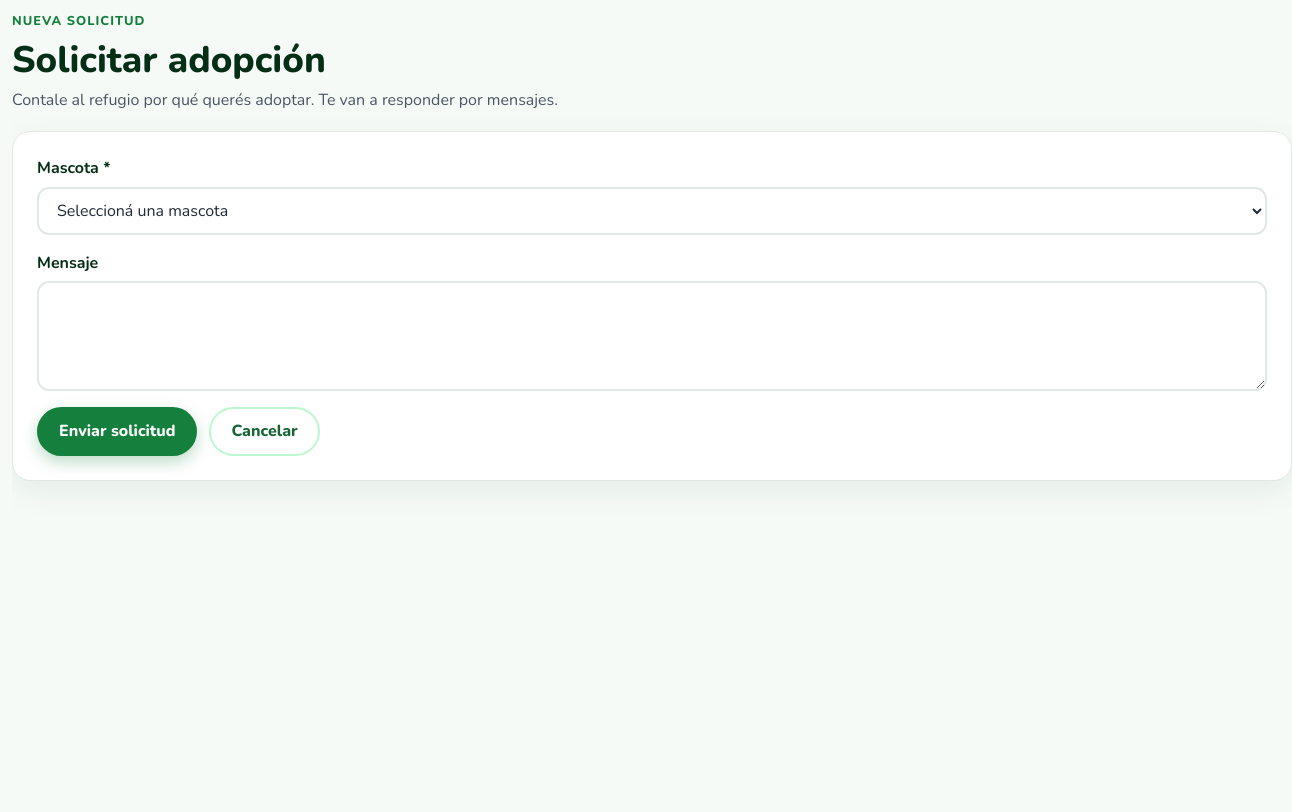
Test: SolicitudFormPage › valida la mascota y crea sin enviar usuario_id
Step 1. Click the button "Enviar solicitud" → point(117, 432), box left=37, top=407, right=198, bottom=456
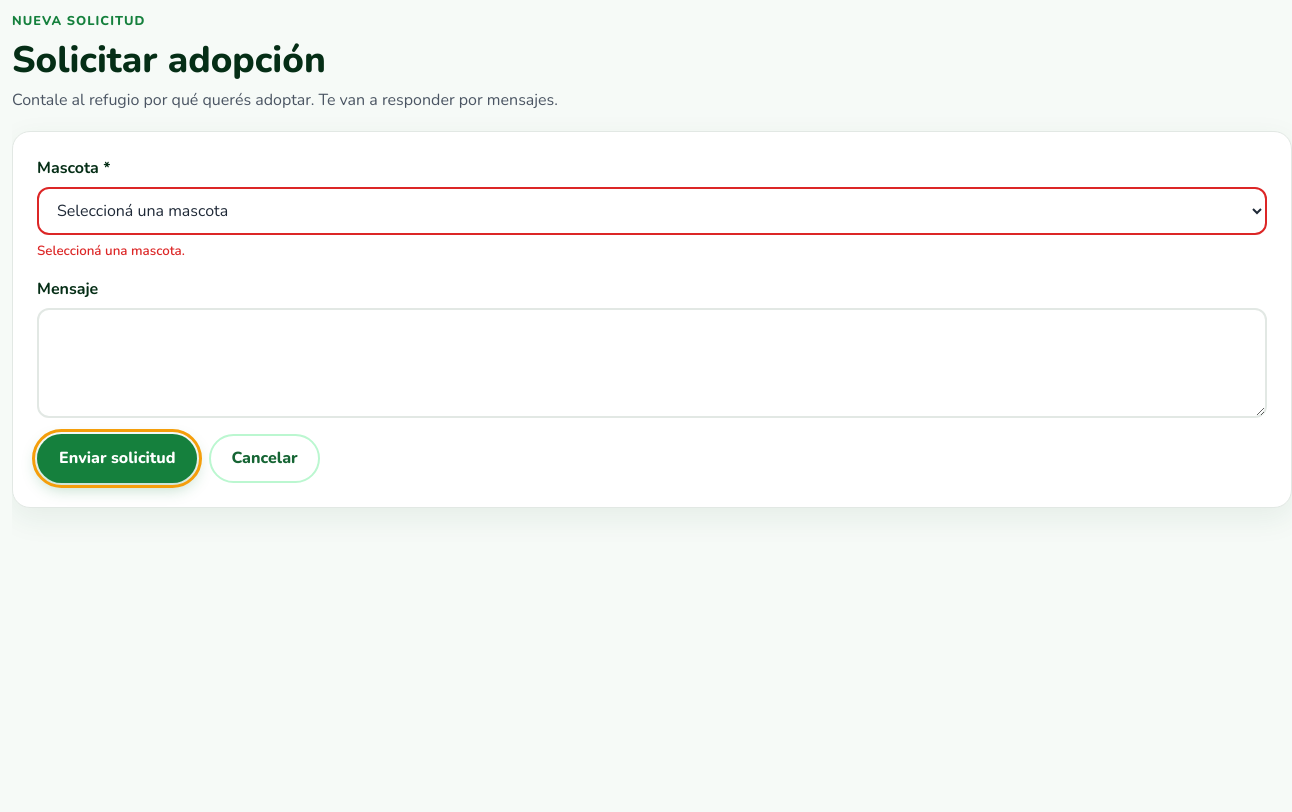
Check: the text "Seleccioná una mascota." is shown, box left=37, top=242, right=185, bottom=260
Step 2. Select "Mora (Perro)" in the dropdown labelled "Mascota * Seleccioná una mascota." → point(652, 211), box left=37, top=187, right=1267, bottom=235
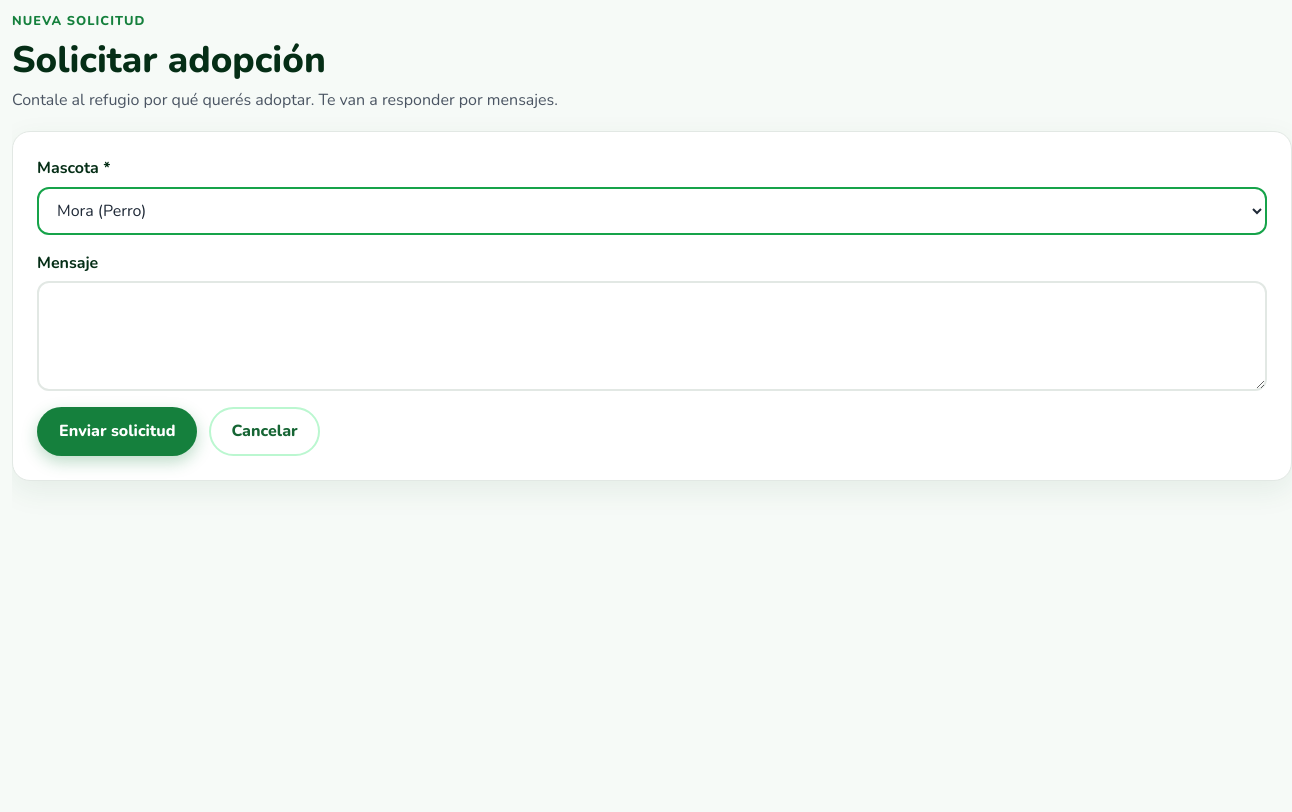
Step 3. Type "  Me gustaría adoptarla  " into the text box labelled "Mensaje" → point(652, 336), box left=37, top=281, right=1267, bottom=391
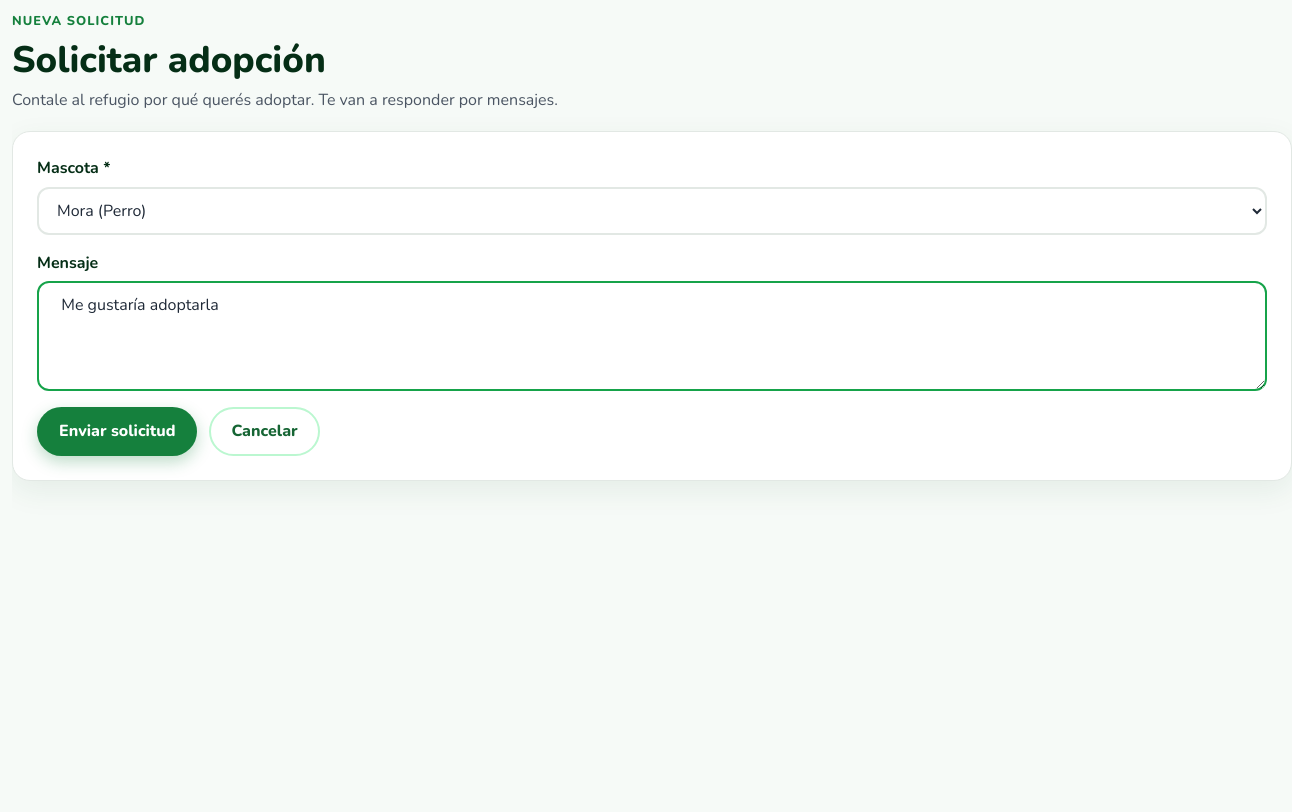
Step 4. Click the button "Enviar solicitud" → point(117, 432), box left=37, top=407, right=198, bottom=456
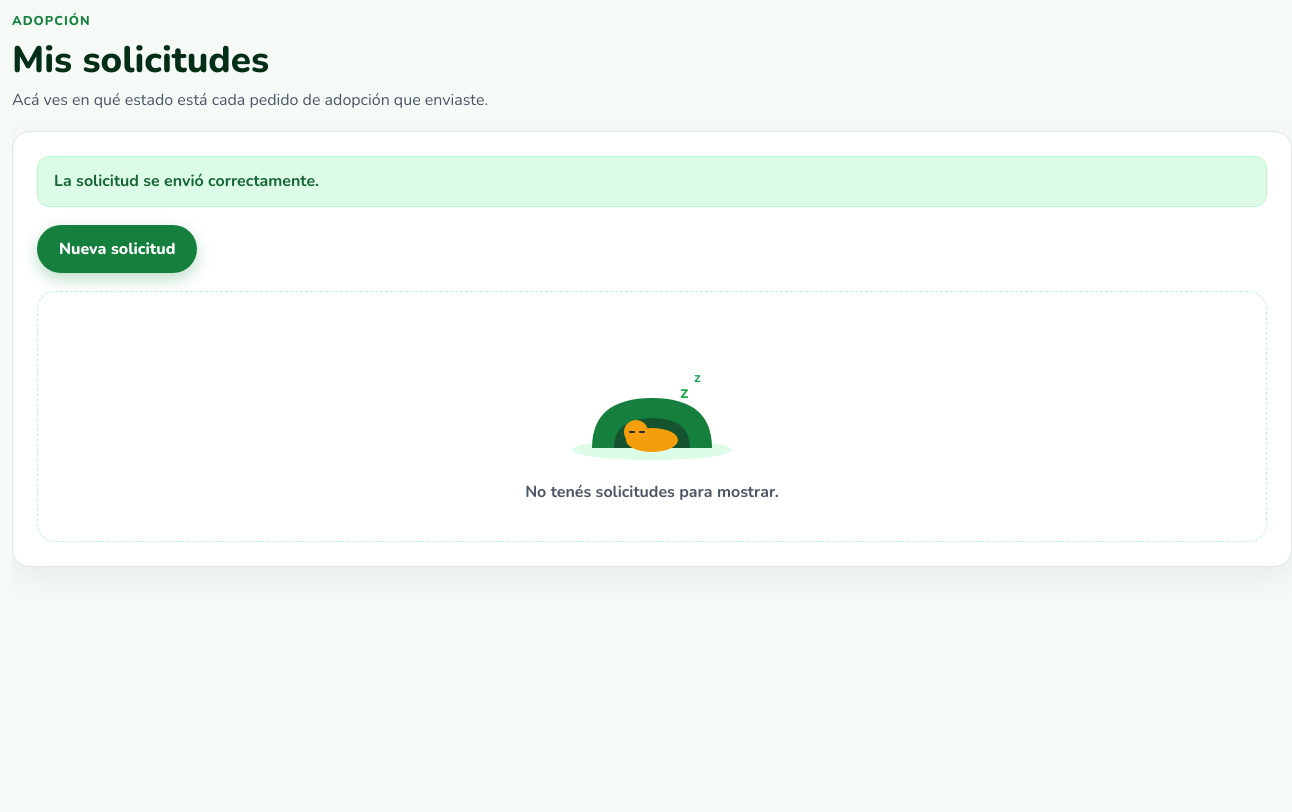
Check: the heading "Mis solicitudes" is shown, box left=12, top=35, right=269, bottom=85
Check: the text "La solicitud se envió correctamente." is shown, box left=37, top=156, right=1267, bottom=207
